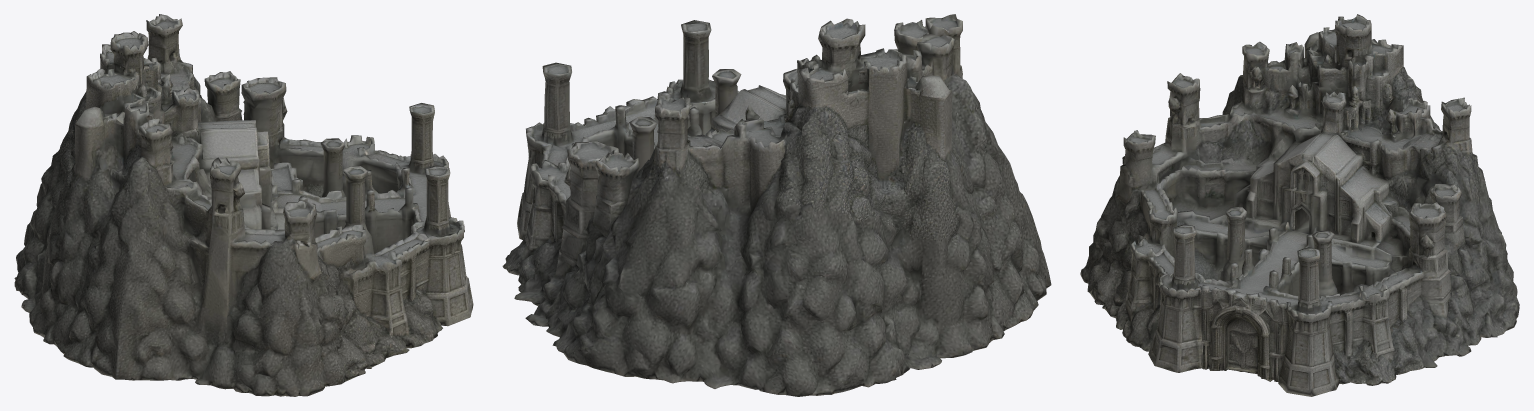
The model's file is dwarf-4.glb.
3 renders of one model, left to right at view 1: azimuth 30°, elevation 25°; view 2: azimuth 150°, elevation 25°; view 3: azimuth 270°, elevation 25°, orthographic. The views are drawn at different scales.
Visible parts, largest first — view 1: tripo_node_6175e2ba-76e2-4e9c-86af-22c9a36c993d; view 2: tripo_node_6175e2ba-76e2-4e9c-86af-22c9a36c993d; view 3: tripo_node_6175e2ba-76e2-4e9c-86af-22c9a36c993d.
Part boxes in pixels (<box>): tripo_node_6175e2ba-76e2-4e9c-86af-22c9a36c993d: <box>14,14,473,396</box>; tripo_node_6175e2ba-76e2-4e9c-86af-22c9a36c993d: <box>502,14,1051,396</box>; tripo_node_6175e2ba-76e2-4e9c-86af-22c9a36c993d: <box>1080,14,1519,396</box>.
Bounding box in the file's own units: 1 × 0.5955 × 0.9921.
1 material, 1 textured.
